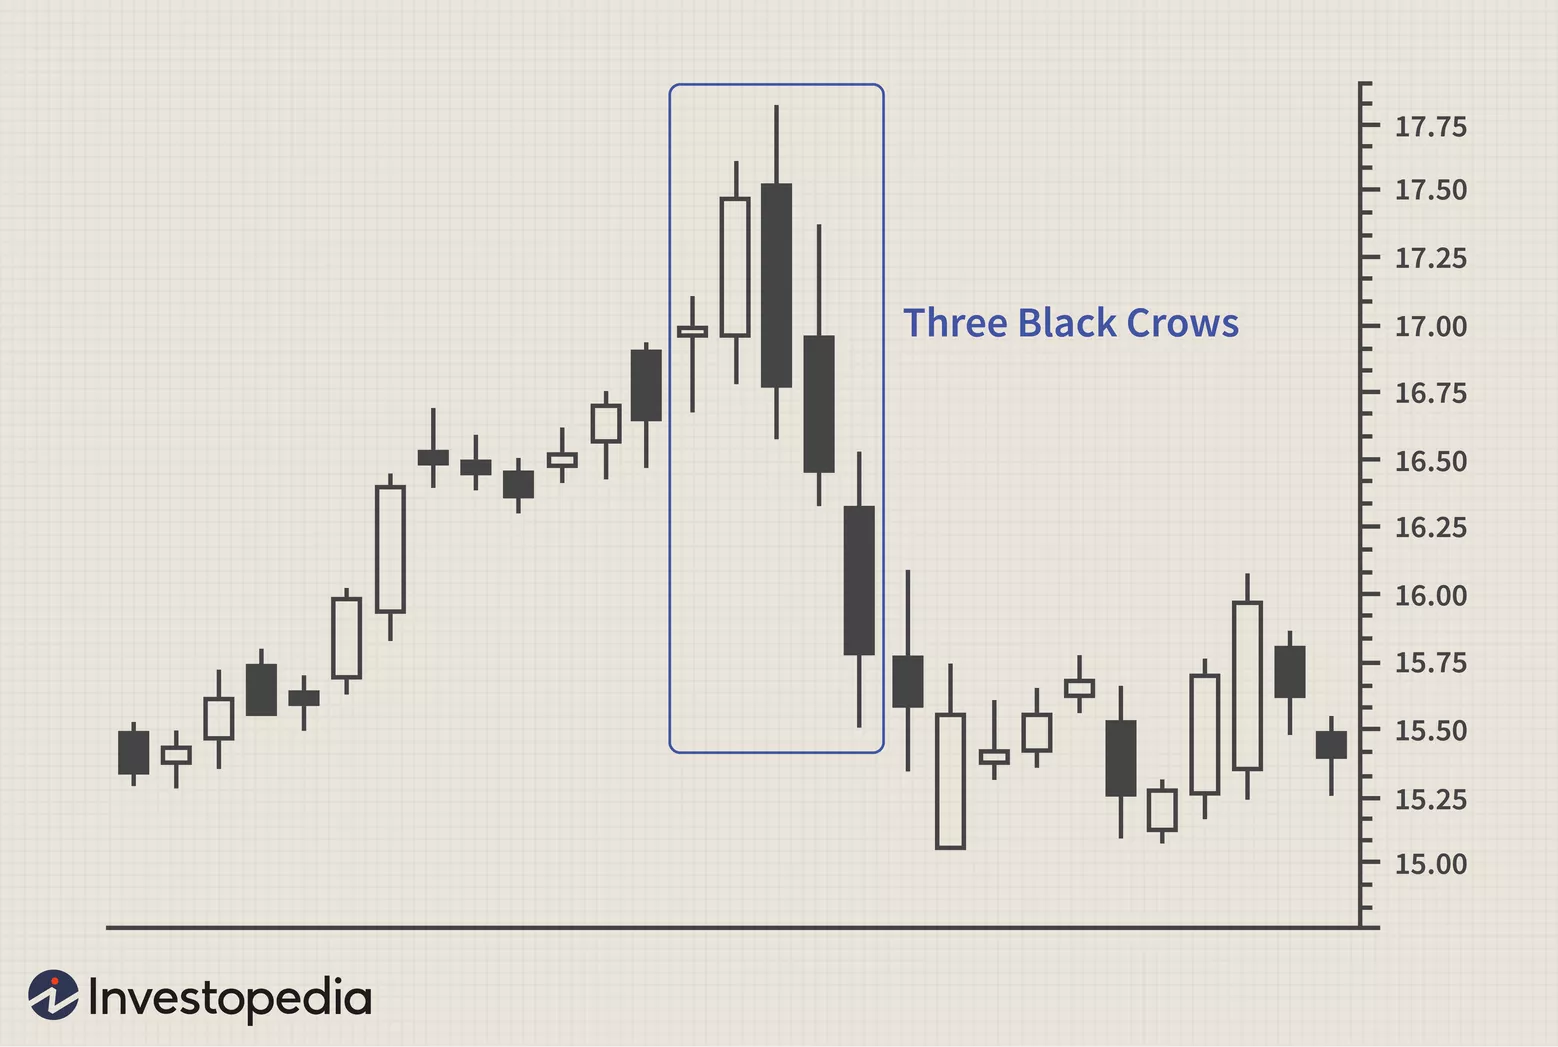3blackcrows: (756, 98, 879, 727)
